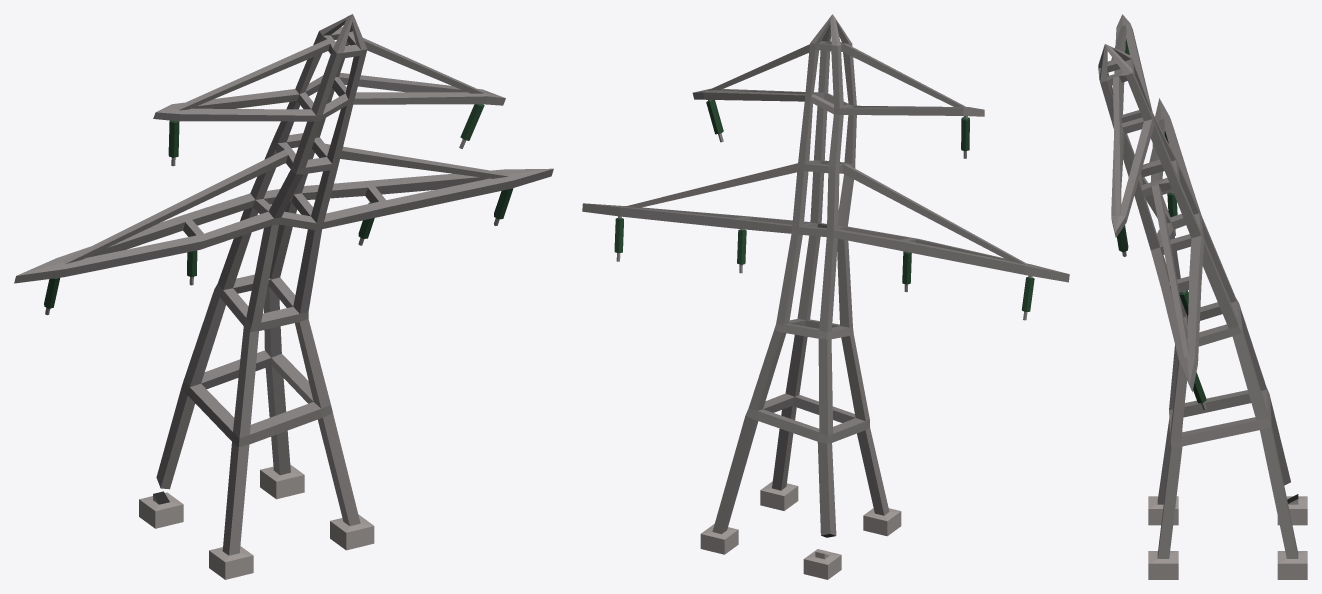
File: apocalypse_power-line-pole-apocalypse-a.fbx
3 renders of one model, left to right at view 1: azimuth 30°, elevation 25°; view 2: azimuth 150°, elevation 25°; view 3: azimuth 270°, elevation 25°, orthographic. The views are drawn at different scales.
Visible parts, largest first — view 1: apocalypse_power_line_pole_apocalypse_a; view 2: apocalypse_power_line_pole_apocalypse_a; view 3: apocalypse_power_line_pole_apocalypse_a.
Part boxes in pixels (<box>): apocalypse_power_line_pole_apocalypse_a: <box>14,14,553,579</box>; apocalypse_power_line_pole_apocalypse_a: <box>582,14,1069,579</box>; apocalypse_power_line_pole_apocalypse_a: <box>1098,14,1307,579</box>.
Size of the model in its own units: 200 by 192 by 70.72.
